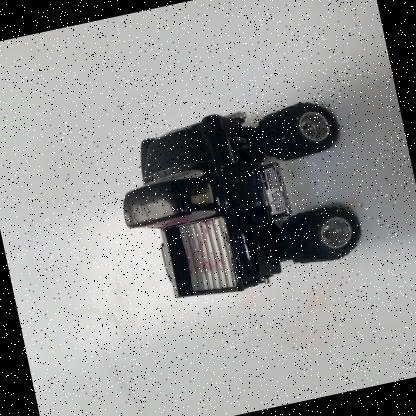black monster truck: (105, 90, 372, 311)
